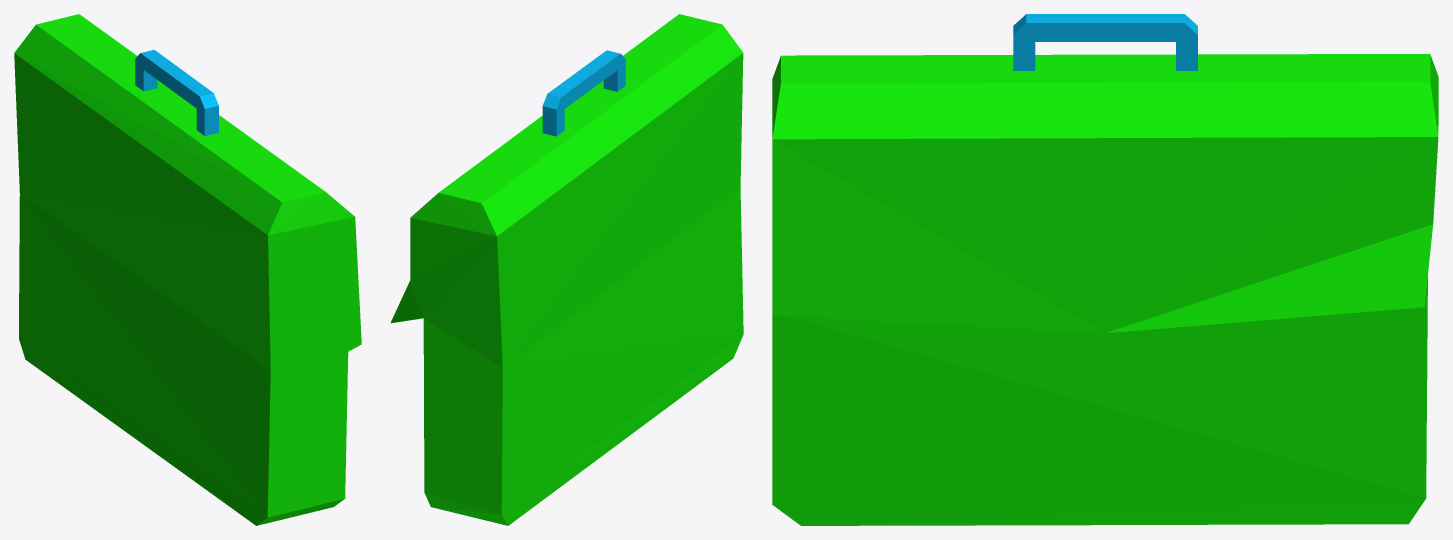
The model's file is Briefcase.FBX.
The picture shows the model from 3 angles, left to right: view 1: azimuth 30°, elevation 25°; view 2: azimuth 150°, elevation 25°; view 3: azimuth 270°, elevation 25°; orthographic projection. The views are drawn at different scales.
Parts seen in each view (by area): view 1: polySurface2; view 2: polySurface2; view 3: polySurface2.
Boxes of the visible parts, left/top/right/bottom form: polySurface2: left=14, top=14, right=361, bottom=525; polySurface2: left=390, top=14, right=743, bottom=525; polySurface2: left=772, top=14, right=1438, bottom=525.
Size of the model in its own units: 8.04 by 24.66 by 31.02.
